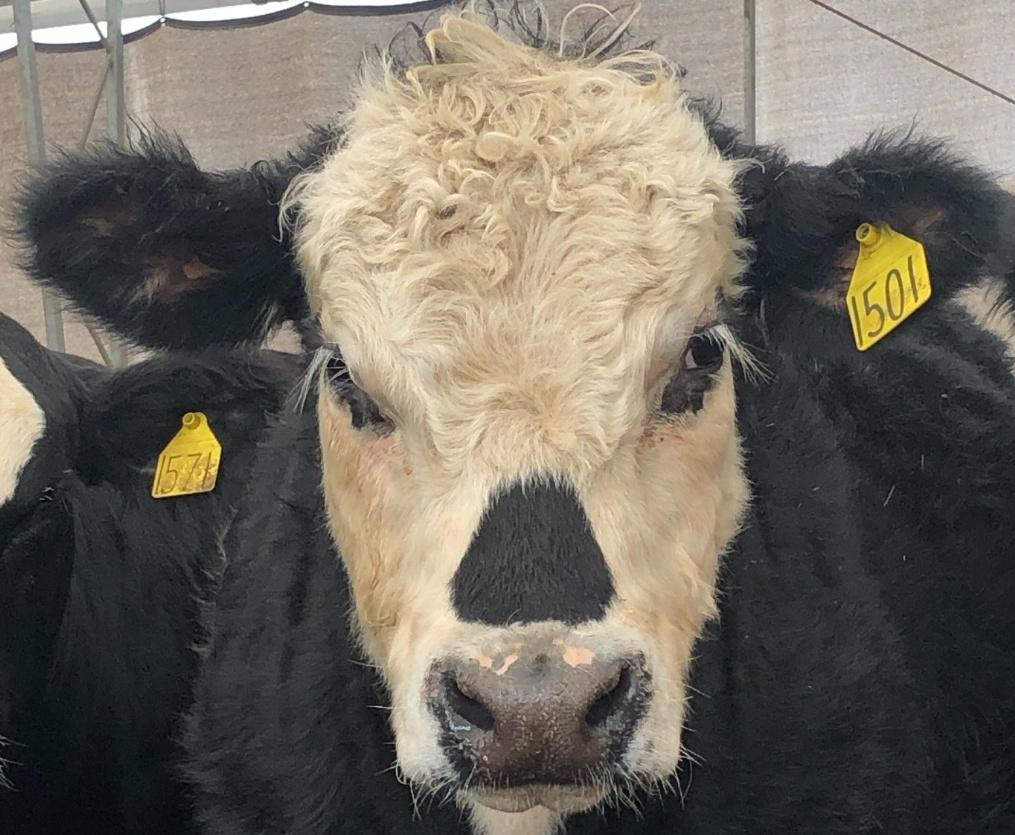muzzles: (380, 628, 694, 820)
